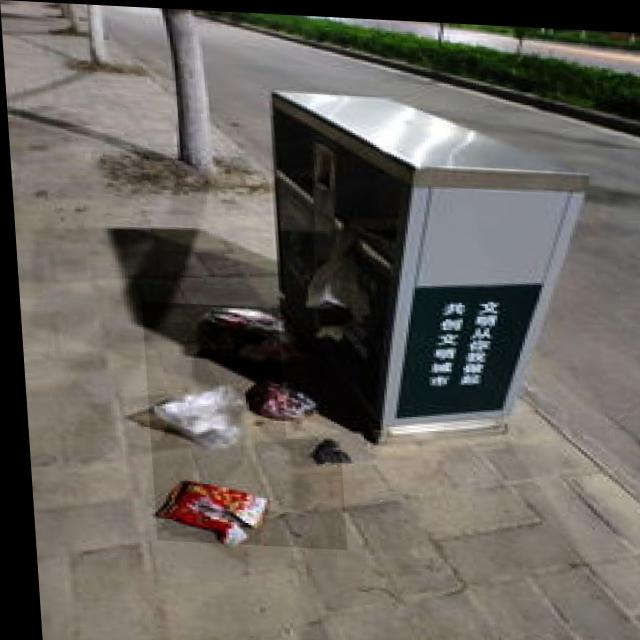garbage: (137, 300, 340, 547)
garbage_bin: (262, 82, 604, 449)
